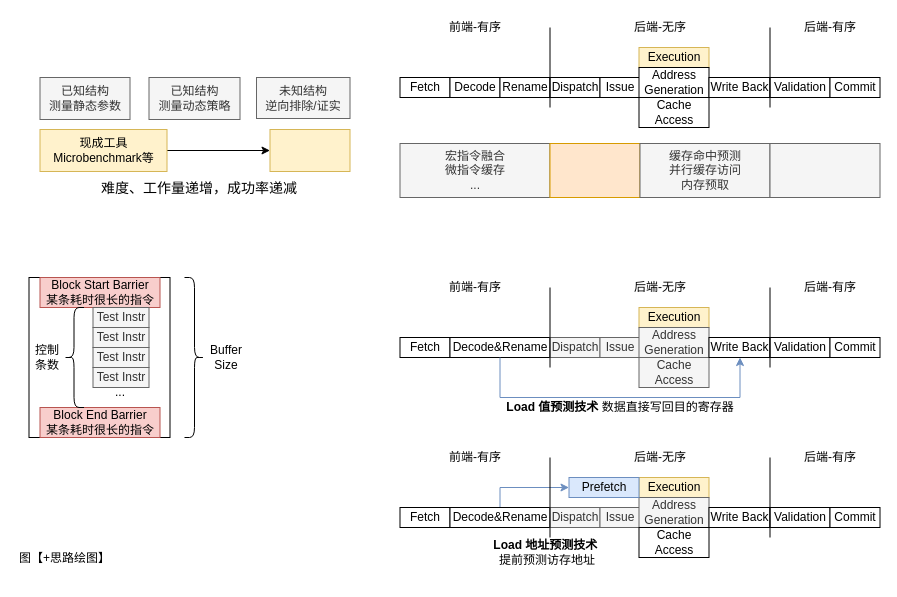
Image size: 897x597. Some labels were removed from this diagram. Here are the shapes that lost their labels. From the top down, the box of each, then its label:
(269, 128, 350, 172): 根据优化机制 设计测例
(549, 142, 640, 198): 内存消歧 访存值预测 访存地址预测
(769, 142, 880, 198): 写合并 多端存储写入 ...
